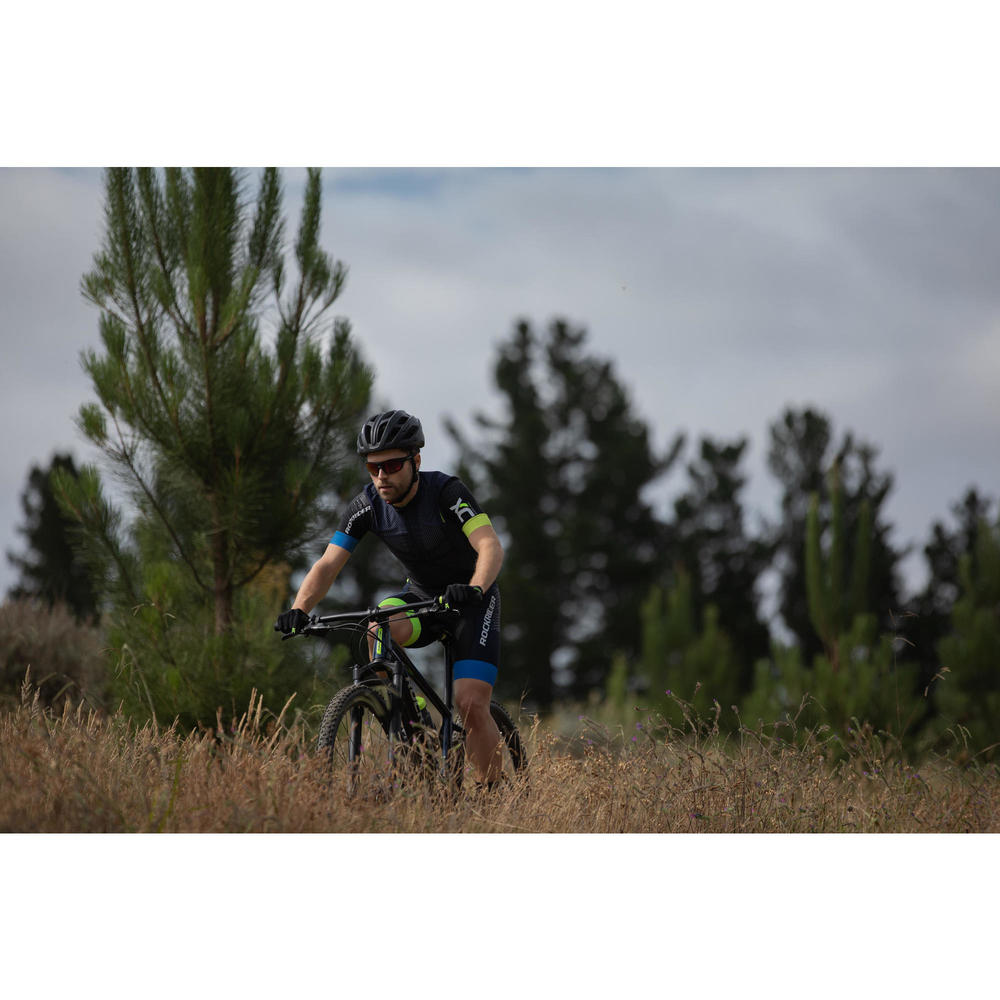MountainBike: (253, 539, 542, 813)
